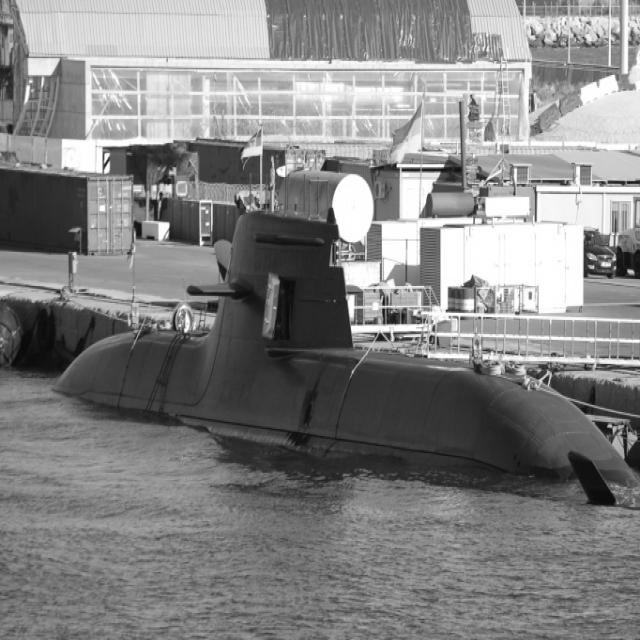submarine: (44, 201, 640, 505)
